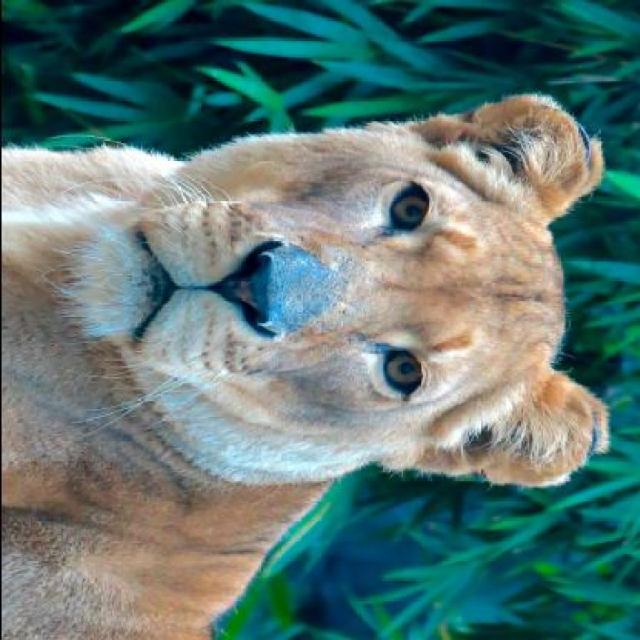Lion: (2, 72, 620, 638)
